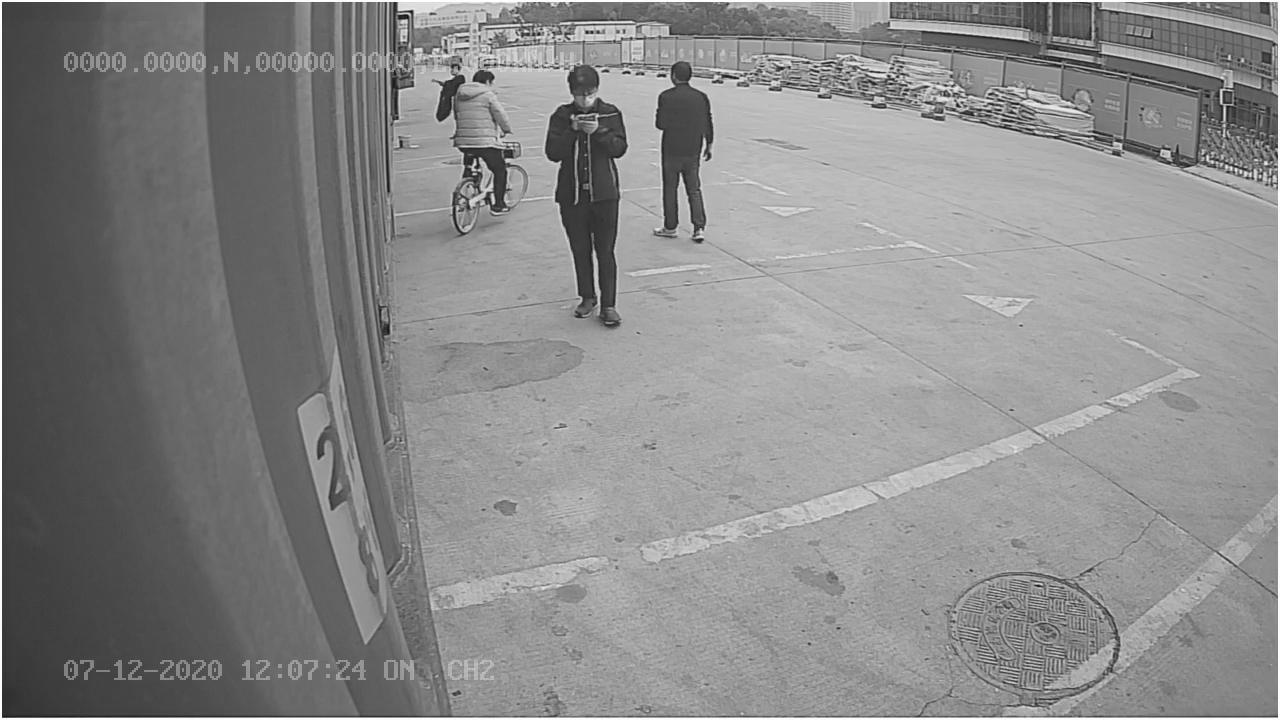person: (539, 58, 630, 329)
